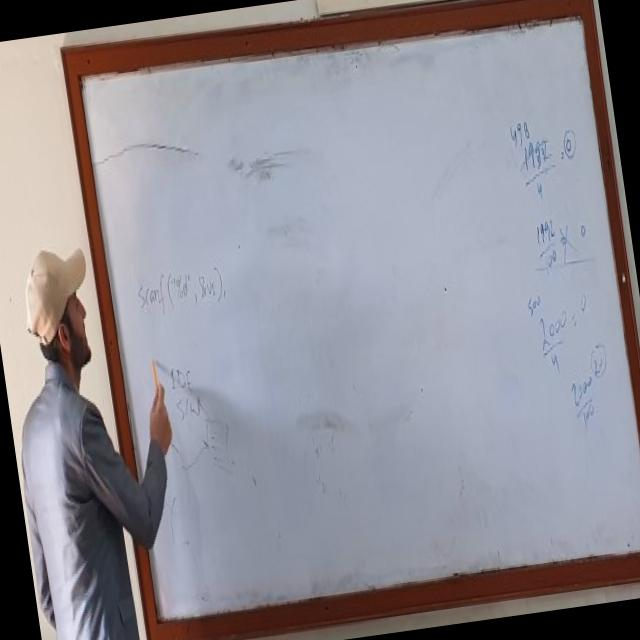Instructor: (0, 230, 156, 640)
White-board: (70, 2, 640, 635)
